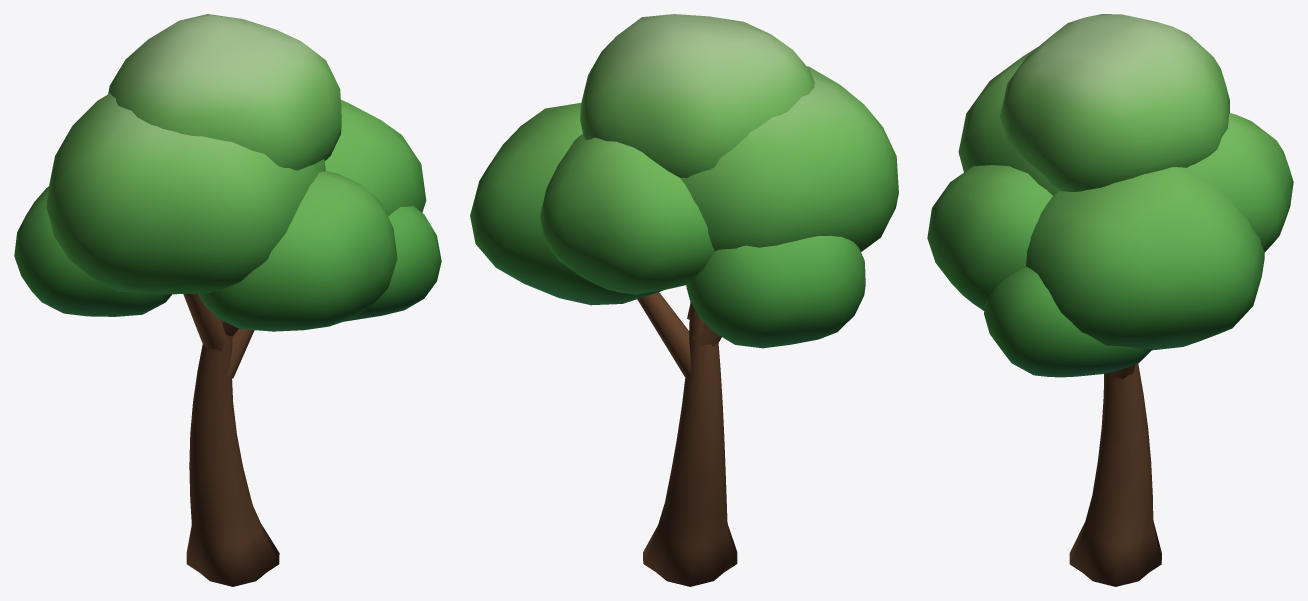
File: tree_round_b.glb
3 views of the same model, side by side, from view 1: azimuth 30°, elevation 25°; view 2: azimuth 150°, elevation 25°; view 3: azimuth 270°, elevation 25° (orthographic). The views are drawn at different scales.
Visible parts, largest first — view 1: Canopy, Trunk; view 2: Canopy, Trunk; view 3: Canopy, Trunk.
Boxes of the visible parts, box(x1,y1,x2,y2) form: Canopy: box(14, 14, 441, 331); Trunk: box(183, 293, 279, 586); Canopy: box(470, 14, 898, 348); Trunk: box(637, 292, 737, 586); Canopy: box(927, 14, 1293, 377); Trunk: box(1069, 363, 1161, 586).
Size of the model in its own units: 3.67 by 5.11 by 3.19.
